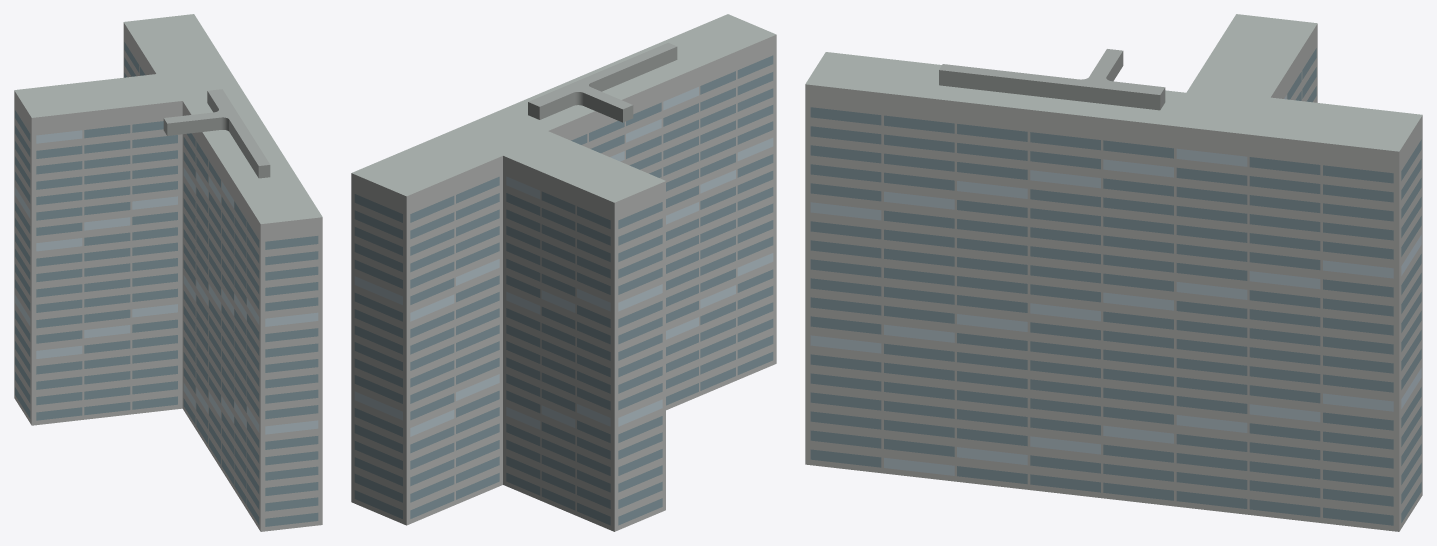
Rendered from apt-a13406003.glb.
3 views of the same model, side by side, from view 1: azimuth 30°, elevation 25°; view 2: azimuth 150°, elevation 25°; view 3: azimuth 270°, elevation 25° (orthographic). The views are drawn at different scales.
Visible parts, largest first — view 1: apt-a13406003; view 2: apt-a13406003; view 3: apt-a13406003.
Part boxes in pixels (<box>): apt-a13406003: <box>14,14,322,531</box>; apt-a13406003: <box>351,14,776,531</box>; apt-a13406003: <box>805,14,1422,531</box>.
Size of the model in its own units: 46.28 by 62 by 87.72.
